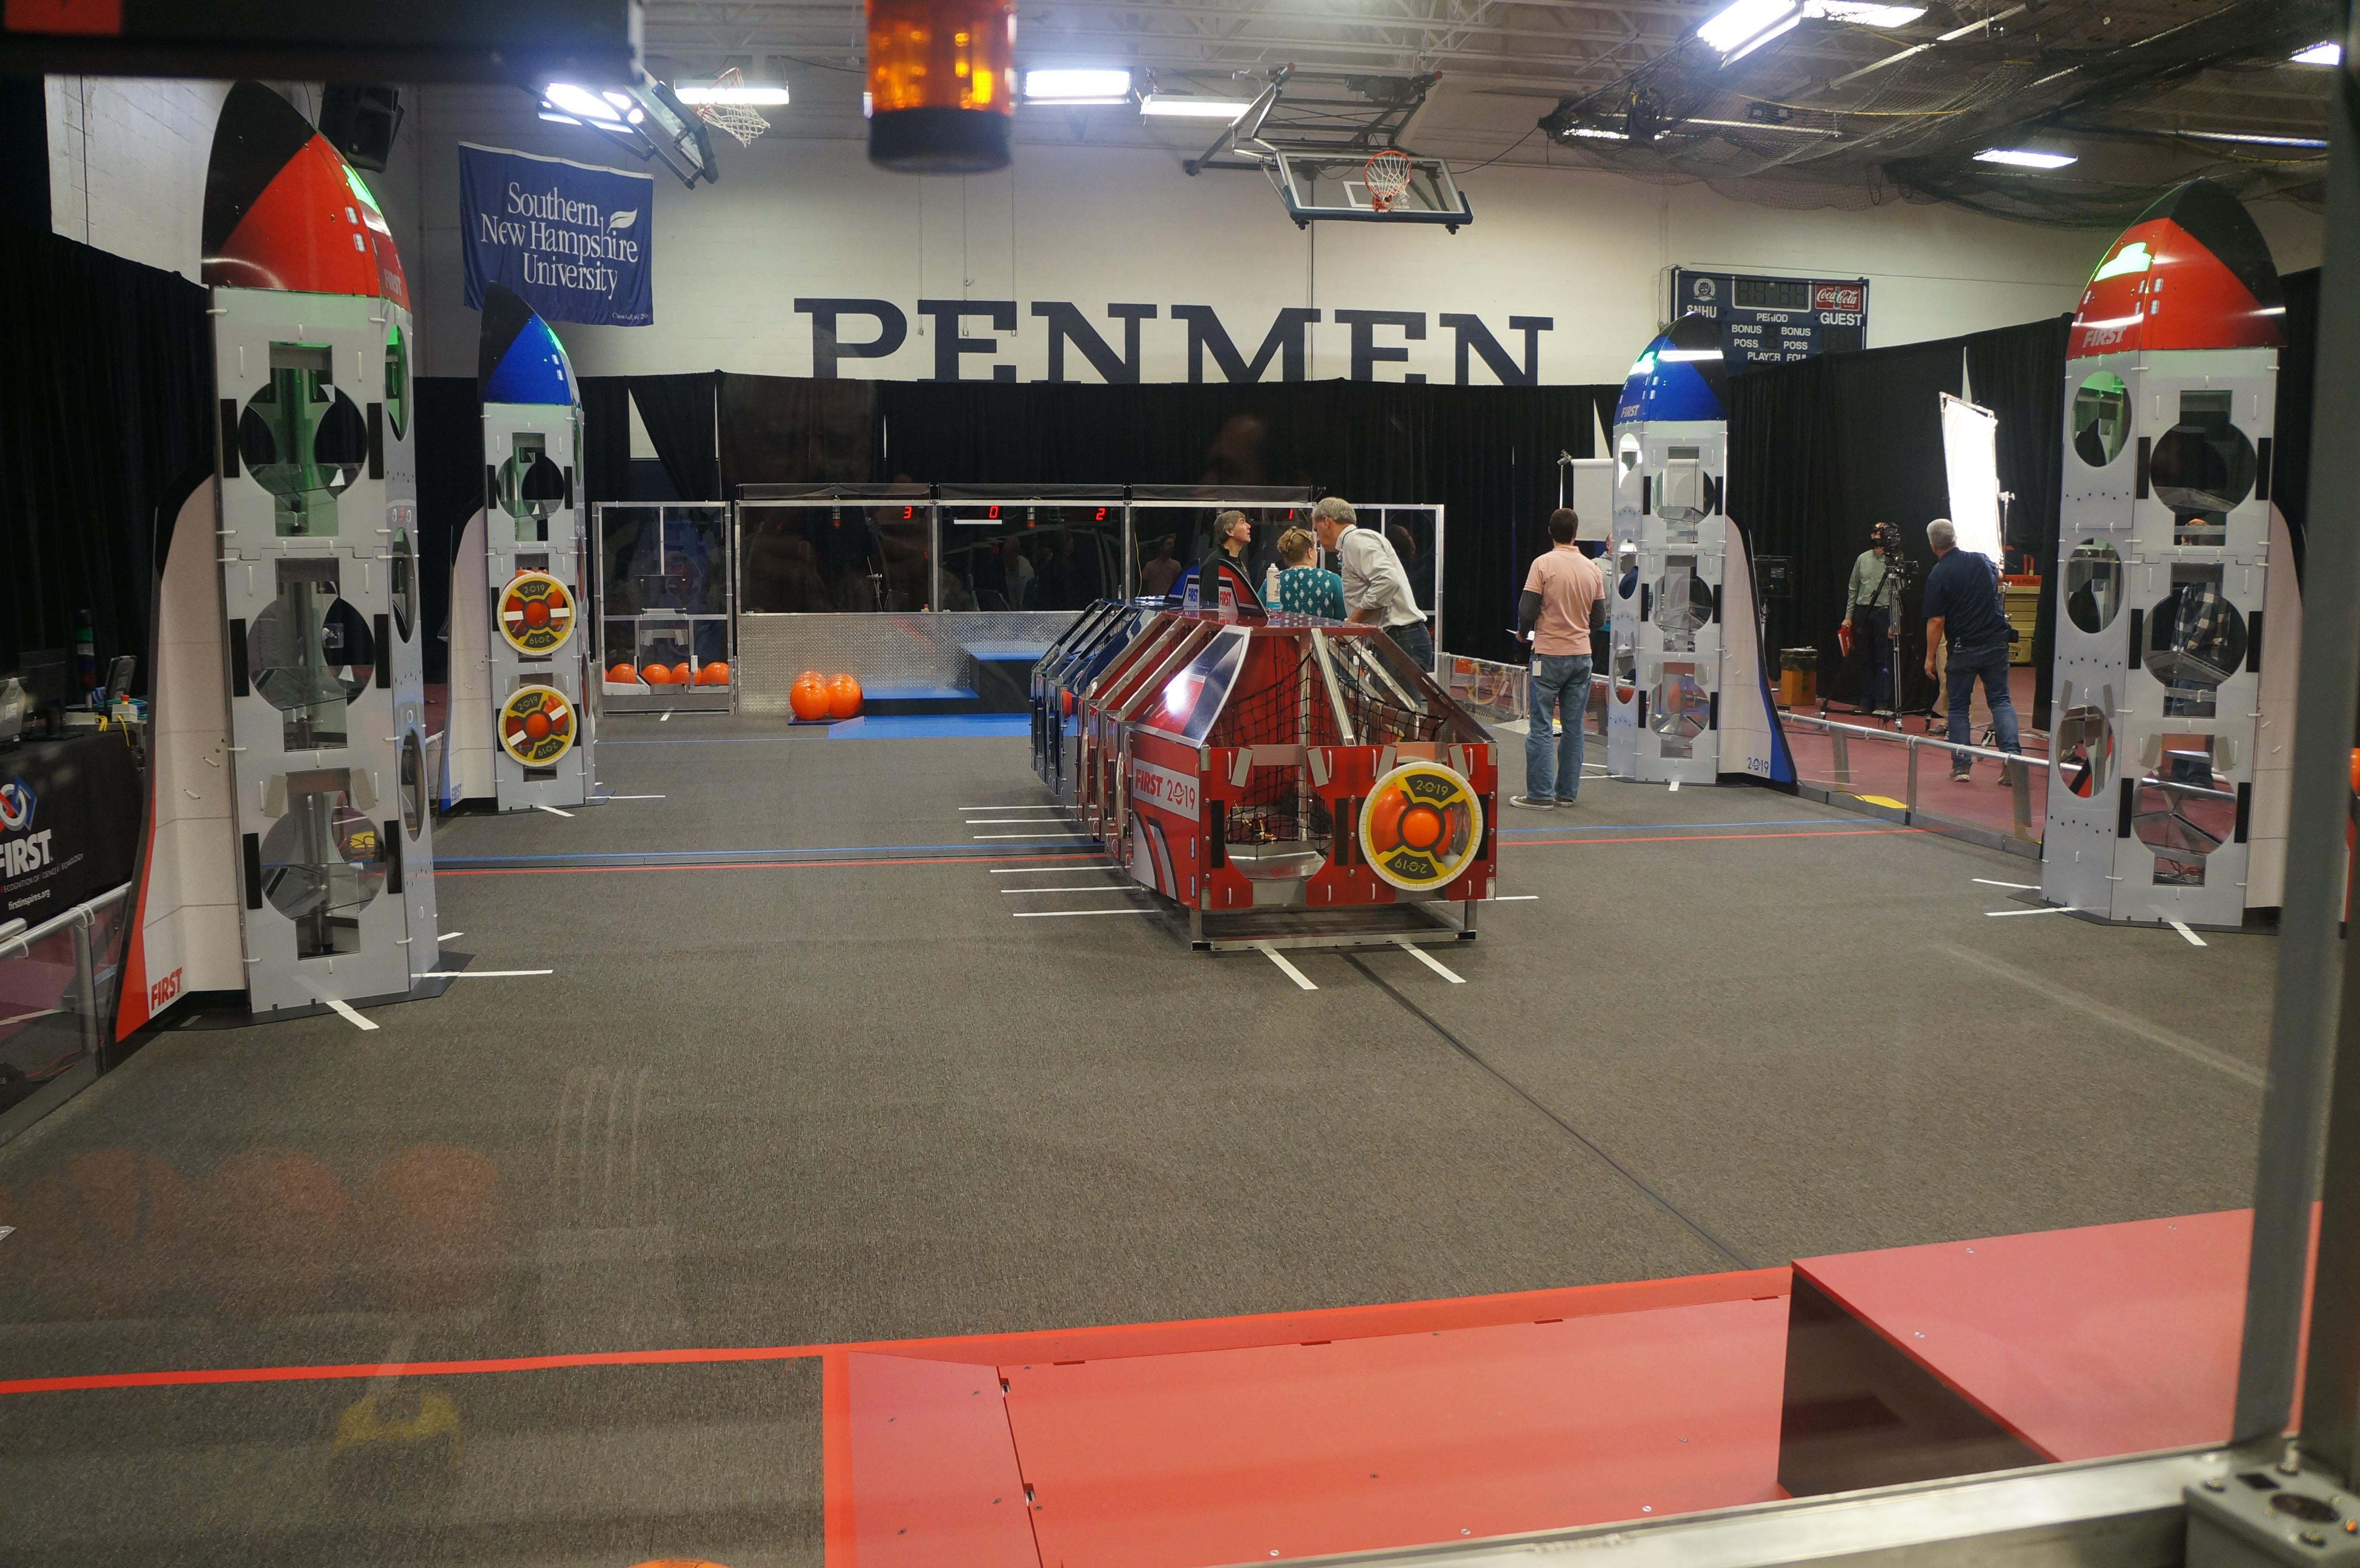Ball: (1377, 773, 1456, 875), (789, 674, 829, 716), (829, 668, 855, 716)
Hatch: (1356, 758, 1485, 898), (499, 567, 577, 660), (499, 677, 577, 765)
